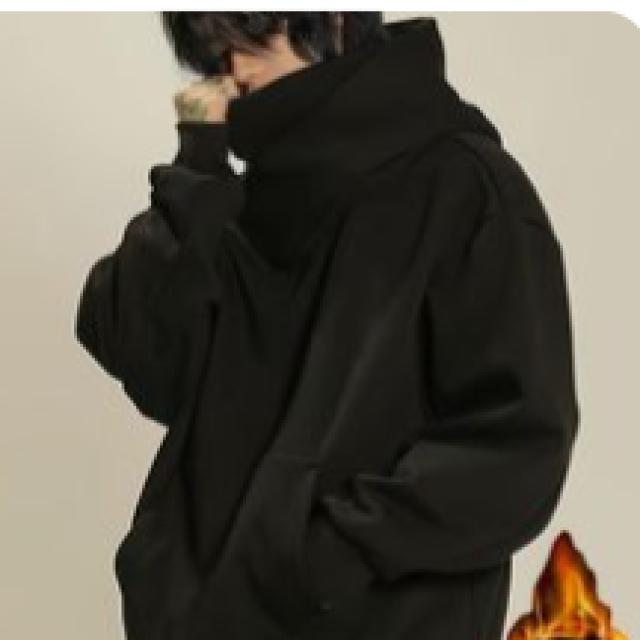8_ropa_rostro: (172, 76, 364, 276)
